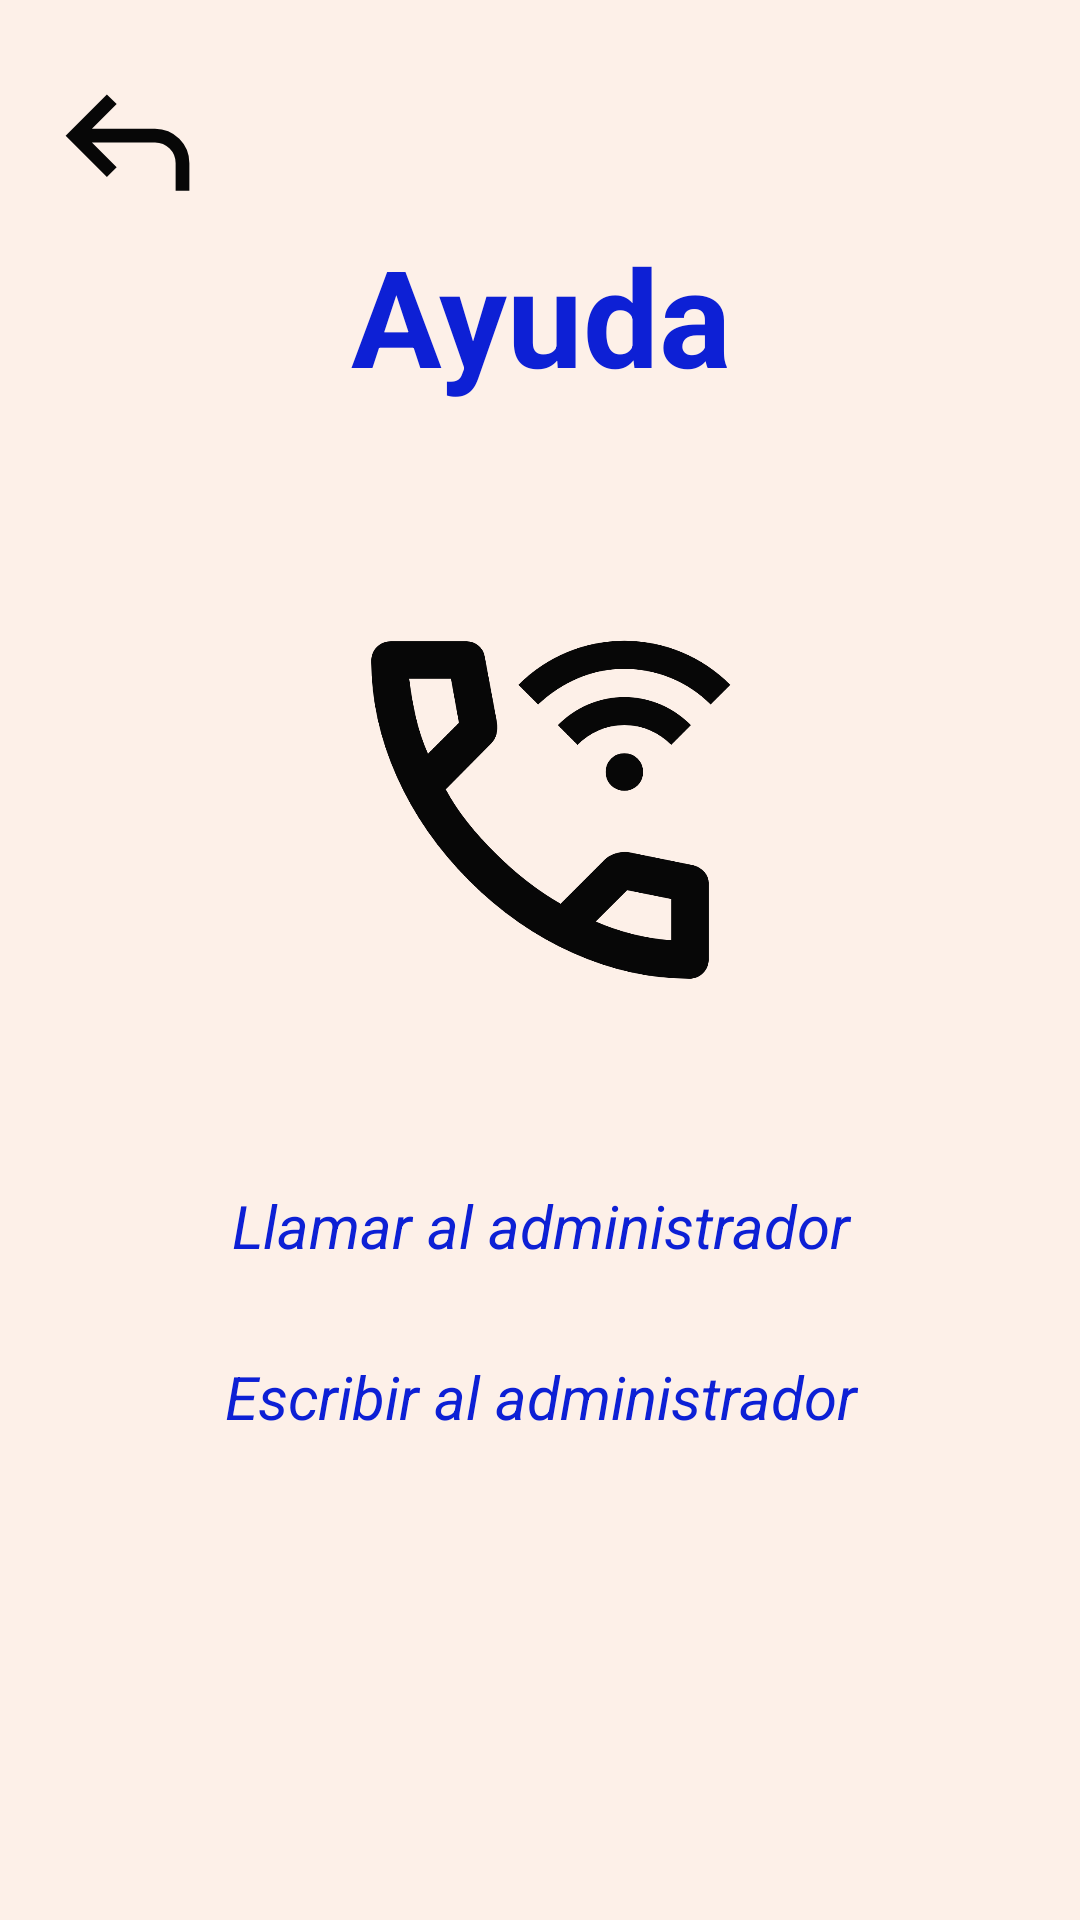

Named icons in this screenshot (1080×1920) and their bounding boxes, bbox=[x1, y1, x2, y2]:
regresar: bbox=[65, 94, 190, 191]
